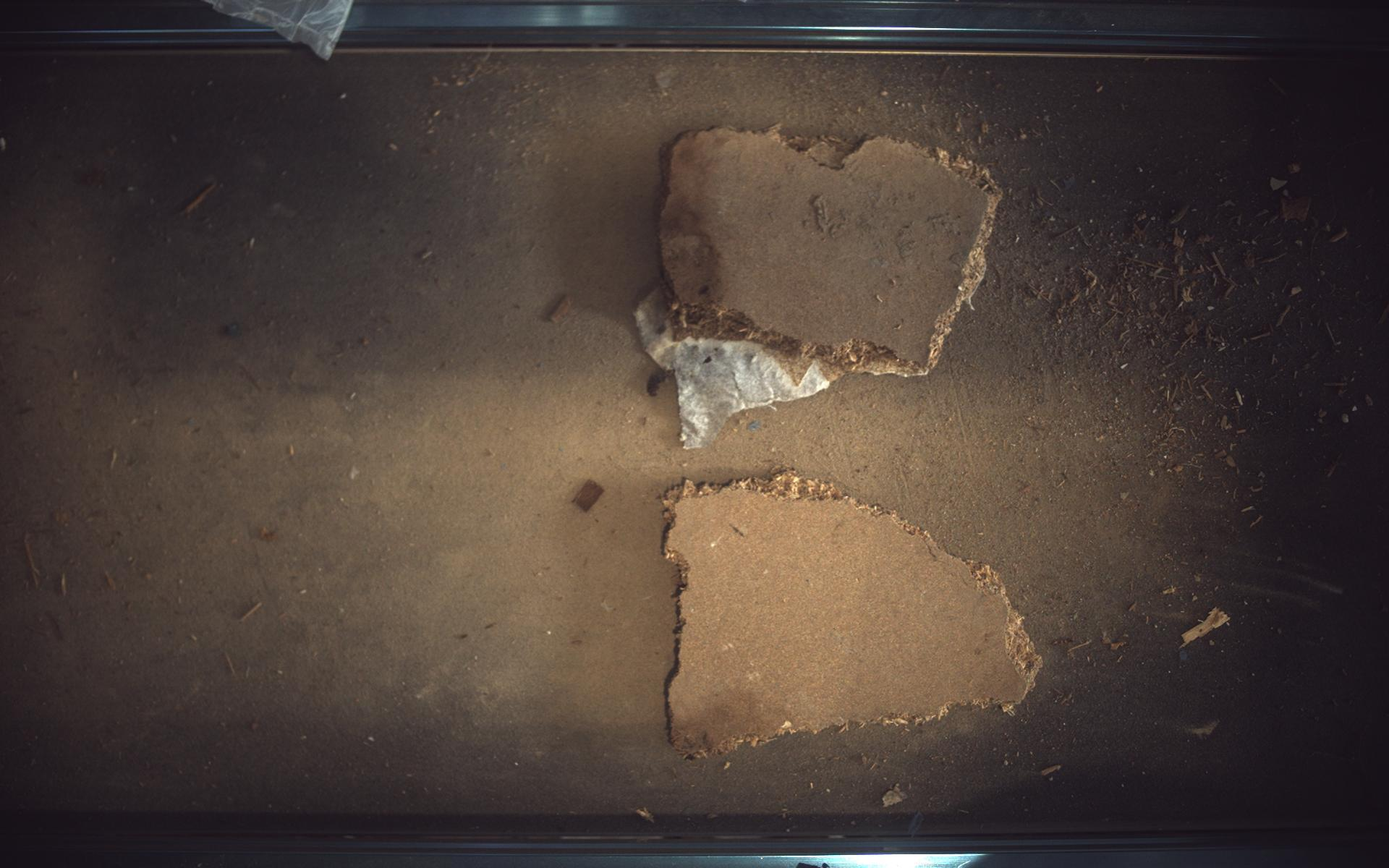wood: (637, 127, 1004, 448), (665, 471, 1043, 758)
